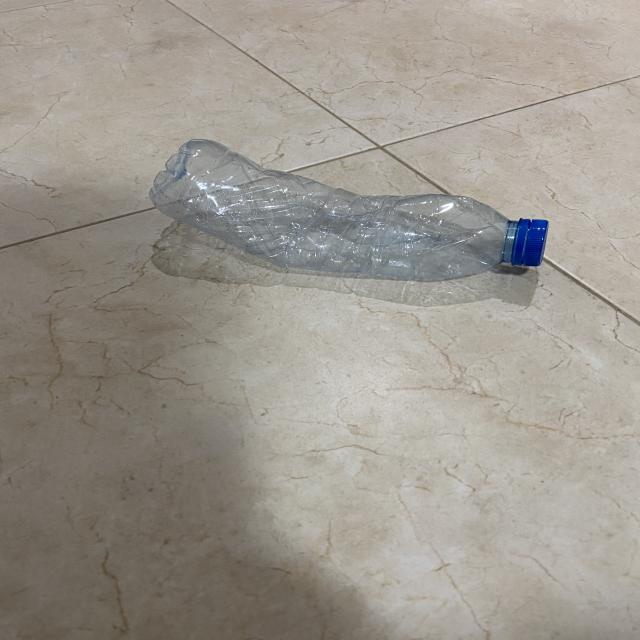plastic bottle: (136, 132, 560, 292)
